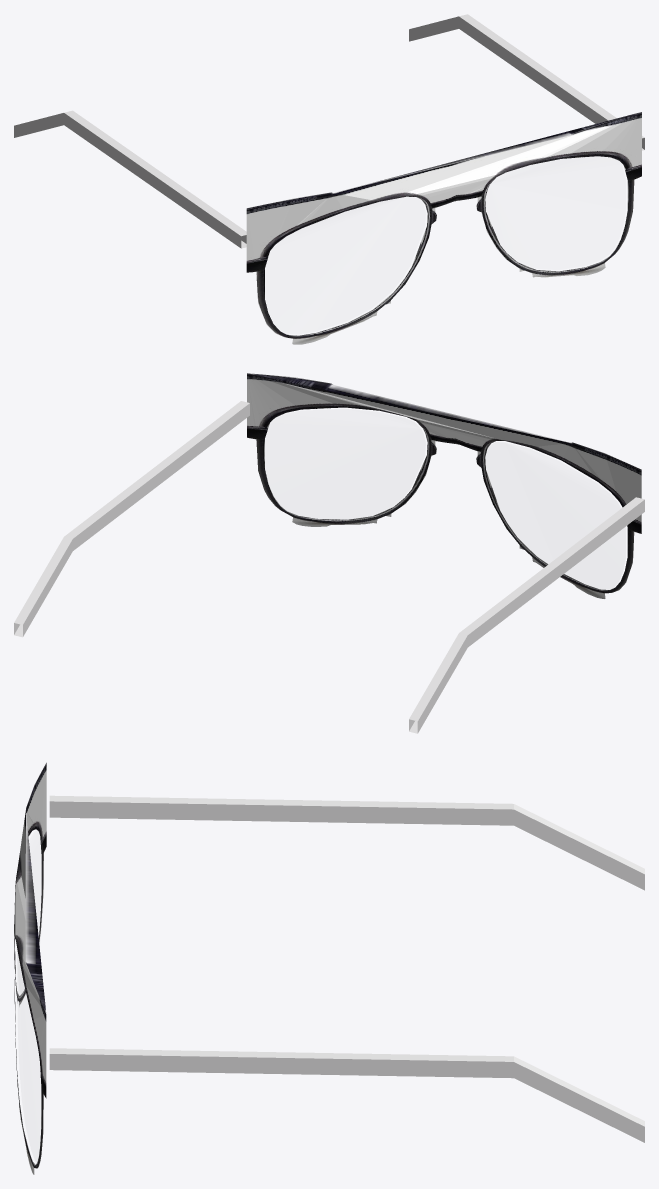
The model's file is gothamstyle-stainless-40_black.glb.
The picture shows the model from 3 angles, top to bottom: view 1: azimuth 30°, elevation 25°; view 2: azimuth 150°, elevation 25°; view 3: azimuth 270°, elevation 25°; orthographic projection. The views are drawn at different scales.
Parts seen in each view (by area): view 1: frame_front, temple_viewer_left, temple_viewer_right; view 2: frame_front, temple_viewer_left, temple_viewer_right; view 3: temple_viewer_left, temple_viewer_right, frame_front.
Part boxes in pixels (x1=…): frame_front: x1=246, y1=112, x2=641, y2=344; temple_viewer_left: x1=14, y1=110, x2=246, y2=248; temple_viewer_right: x1=409, y1=14, x2=644, y2=150; frame_front: x1=247, y1=373, x2=641, y2=598; temple_viewer_left: x1=409, y1=497, x2=644, y2=733; temple_viewer_right: x1=14, y1=401, x2=249, y2=637; temple_viewer_left: x1=49, y1=795, x2=644, y2=890; temple_viewer_right: x1=49, y1=1048, x2=644, y2=1142; frame_front: x1=14, y1=762, x2=46, y2=1174.
Size of the model in its own units: 0.1365 by 0.0476 by 0.141.
3 materials, 2 textured.
